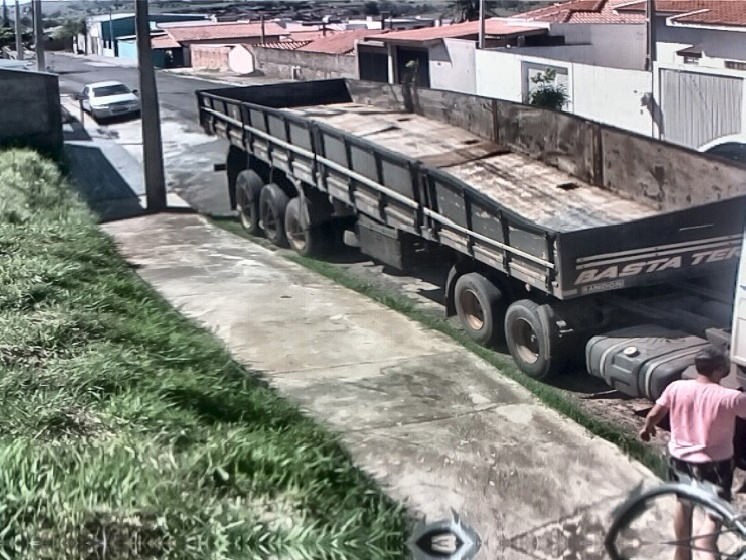person: (637, 346, 746, 560)
